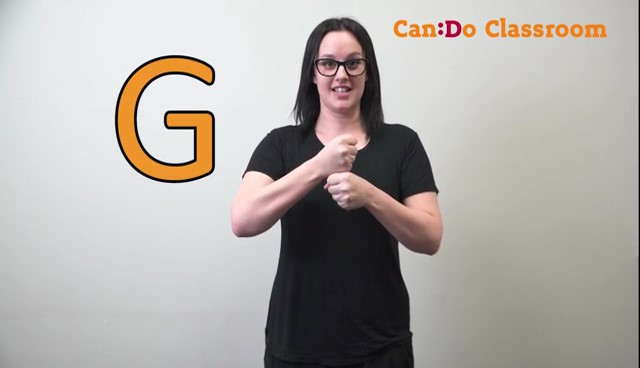G: (304, 124, 381, 217)
